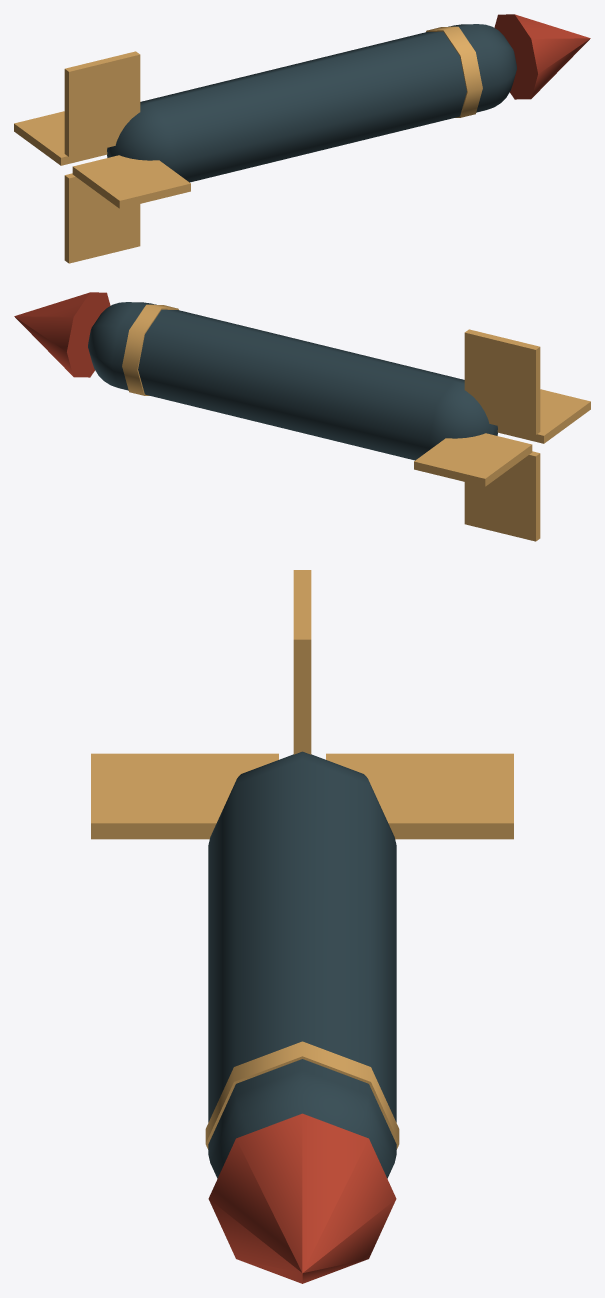
File: torpedo.glb
3 renders of one model, top to bottom at view 1: azimuth 30°, elevation 25°; view 2: azimuth 150°, elevation 25°; view 3: azimuth 270°, elevation 25°, orthographic. The views are drawn at different scales.
Visible parts, largest first — view 1: body, tail_fin (×4), warhead_tip, band; view 2: body, tail_fin (×4), warhead_tip, band; view 3: body, tail_fin (×3), warhead_tip, band.
Part boxes in pixels (x1,y1,x2,y2): body: (107, 24, 516, 182); tail_fin (×4): (14, 51, 190, 263); warhead_tip: (494, 14, 590, 99); band: (426, 26, 482, 117); body: (88, 302, 497, 460); tail_fin (×4): (414, 329, 590, 541); warhead_tip: (14, 292, 110, 377); band: (122, 304, 178, 395); body: (208, 751, 396, 1178); tail_fin (×3): (91, 570, 513, 839); warhead_tip: (208, 1113, 396, 1283); band: (205, 1041, 399, 1149).
Bounding box in the file's own units: 1.6 × 0.5592 × 0.5592.
